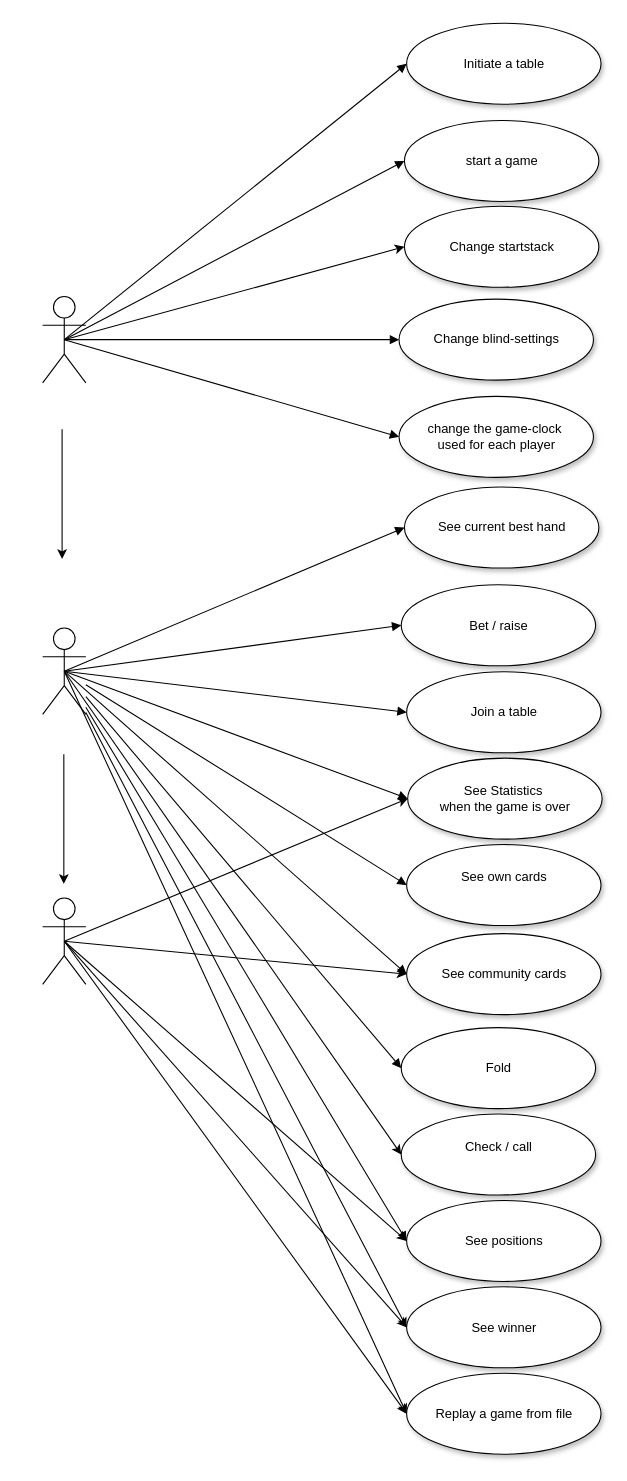
Image size: 627x1481. Some labels were removed from this diagram. Here are the shapes that lost their labels. From the top down, the centre of each, then its label:
the point at 64,339: Organizer
the point at 64,670: Player
the point at 64,940: Spectator
